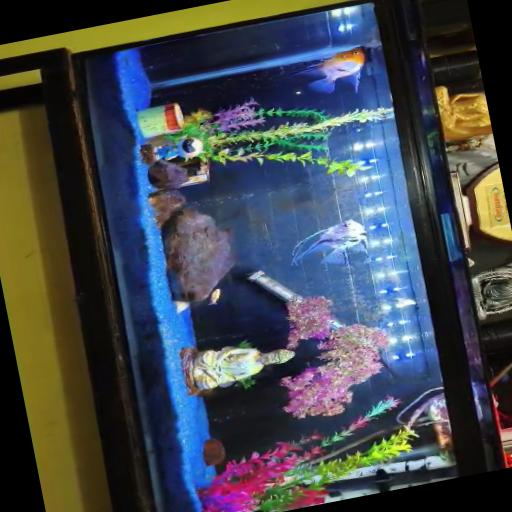Fish: (292, 219, 366, 265), (290, 47, 364, 93), (393, 298, 415, 307), (209, 289, 220, 305)
